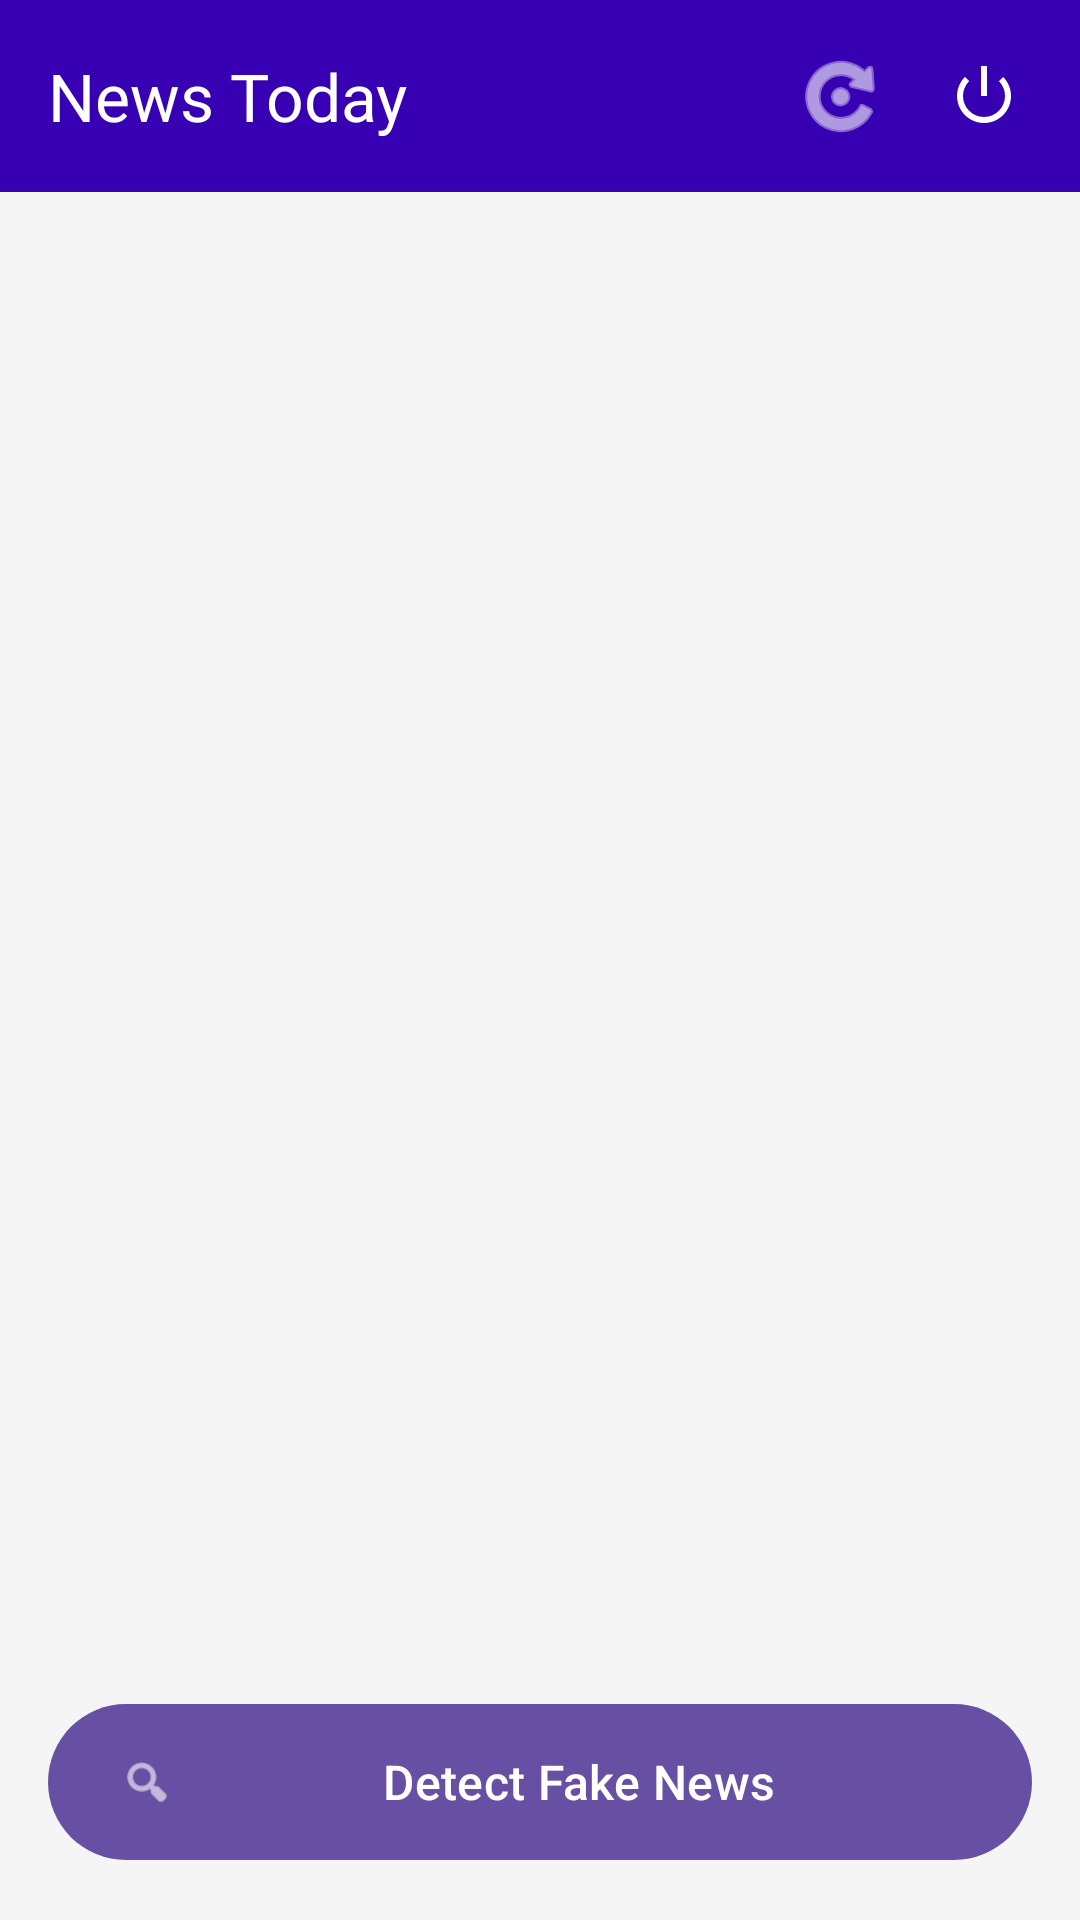

Where icons sit on this 1080px x 1920px app screen, as (x1, y1, x2, y2):
Refresh: (805, 61, 875, 132)
